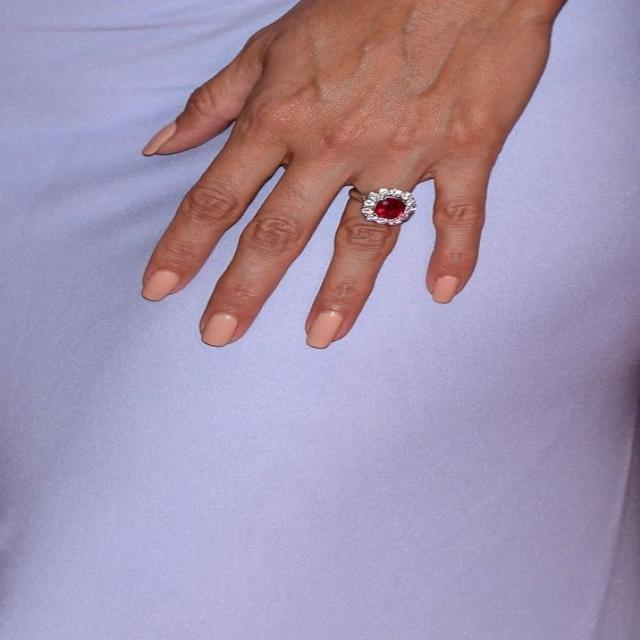Fingernail: (307, 312, 341, 348), (203, 314, 237, 345), (143, 123, 175, 154), (143, 272, 179, 299), (434, 276, 458, 304)
